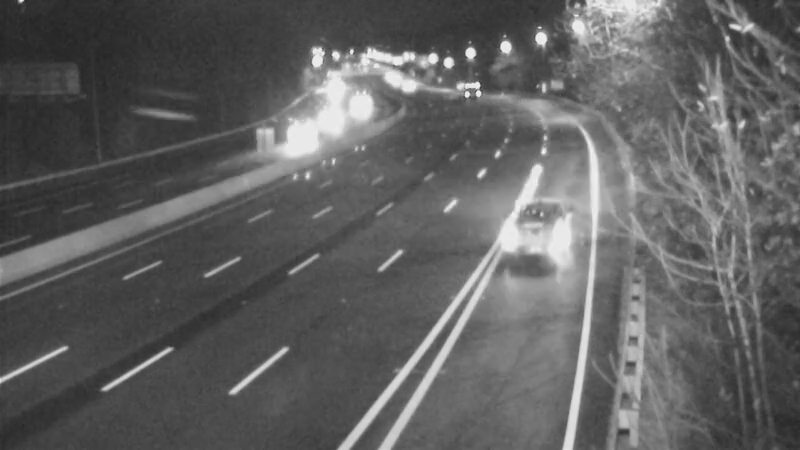vehicle: (497, 195, 577, 275), (437, 65, 487, 115), (379, 56, 429, 106), (277, 111, 327, 161), (308, 99, 358, 149), (338, 84, 388, 134)
